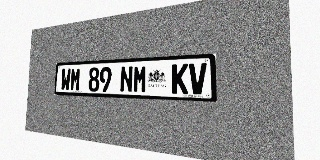8: (88, 67, 100, 92)
9: (99, 67, 112, 92)
K: (172, 64, 188, 94)
M: (133, 65, 147, 93), (70, 68, 81, 91)
N: (120, 66, 133, 93)
V: (189, 63, 207, 95)
W: (61, 68, 71, 91)
